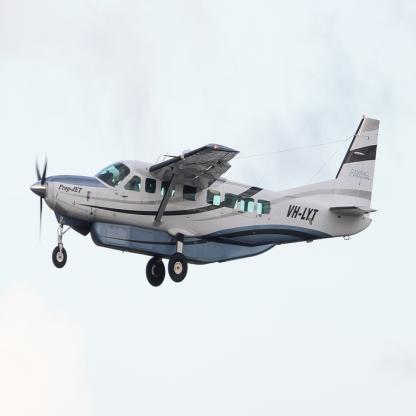CIV_Plane: (22, 115, 384, 296)
